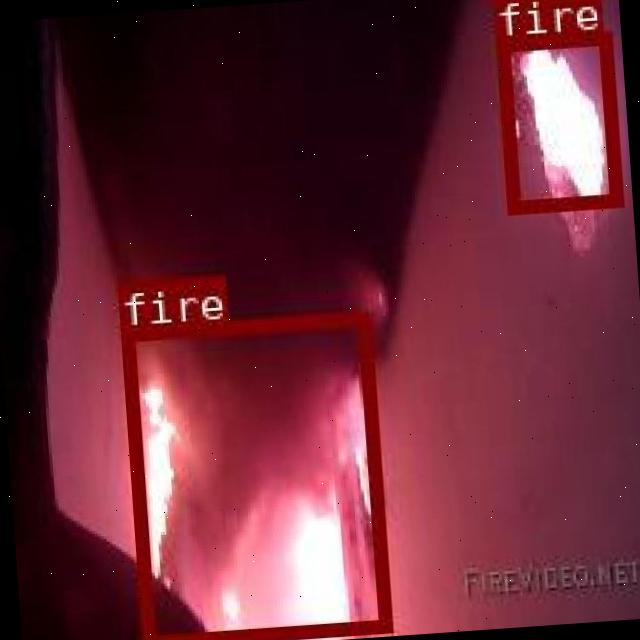fire: (118, 310, 390, 640), (494, 28, 620, 211)
